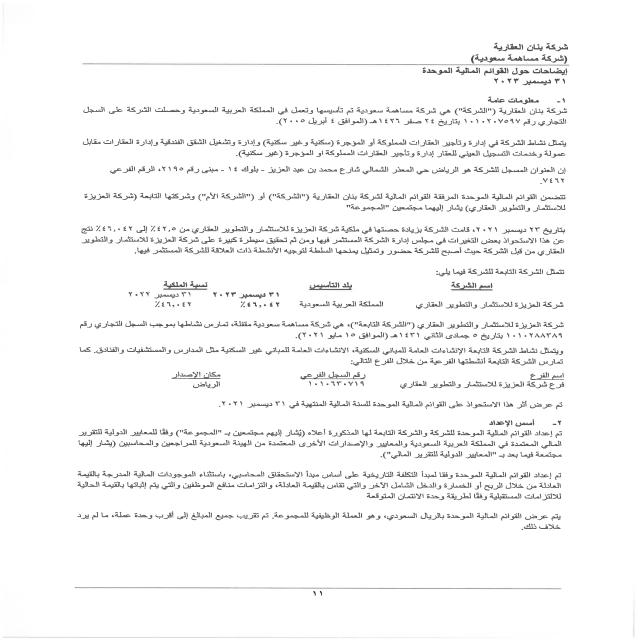notes: (413, 64, 578, 77)
text: (17, 93, 610, 551)
